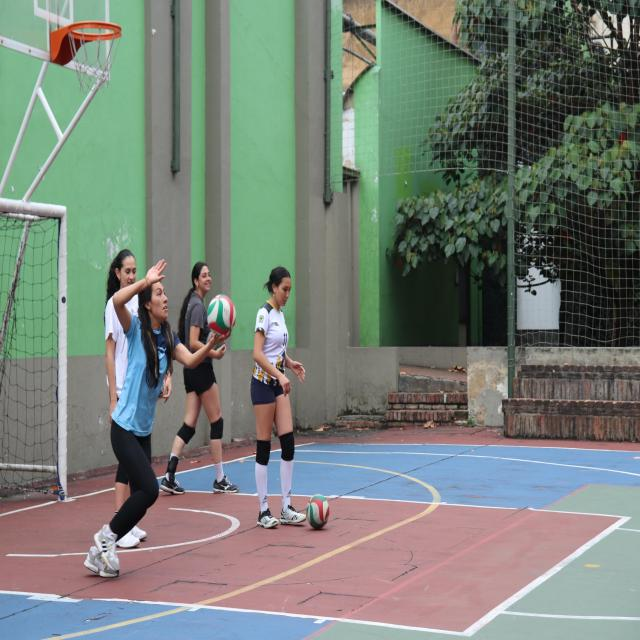volleyball: (207, 293, 236, 338), (307, 493, 329, 530)
